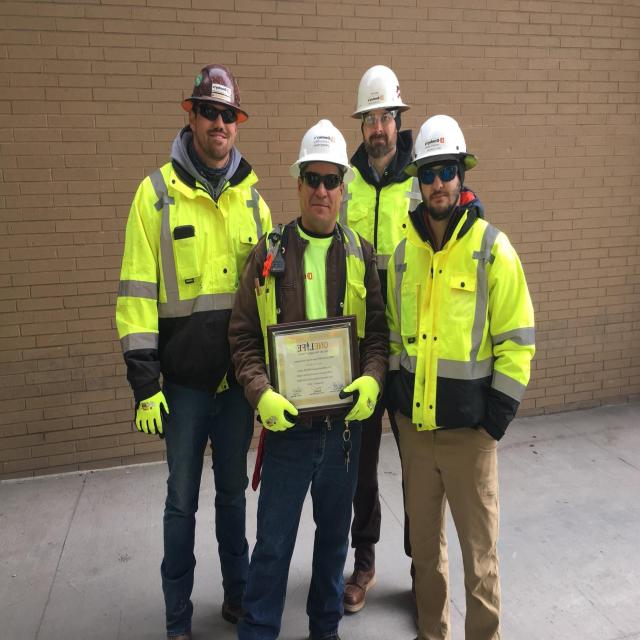Reflective-Jacket: (115, 155, 269, 342), (384, 210, 536, 388), (253, 221, 371, 364)
Safety-Helmet: (180, 58, 248, 120), (407, 111, 478, 170), (290, 116, 354, 175), (350, 61, 410, 118)
